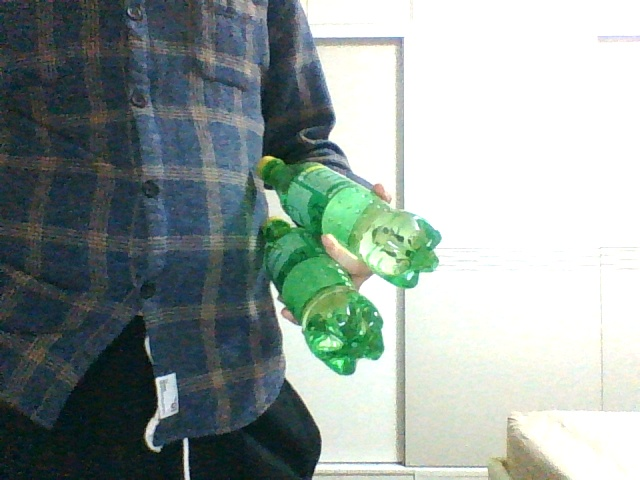Sprite: (254, 156, 441, 288), (259, 217, 384, 376)
